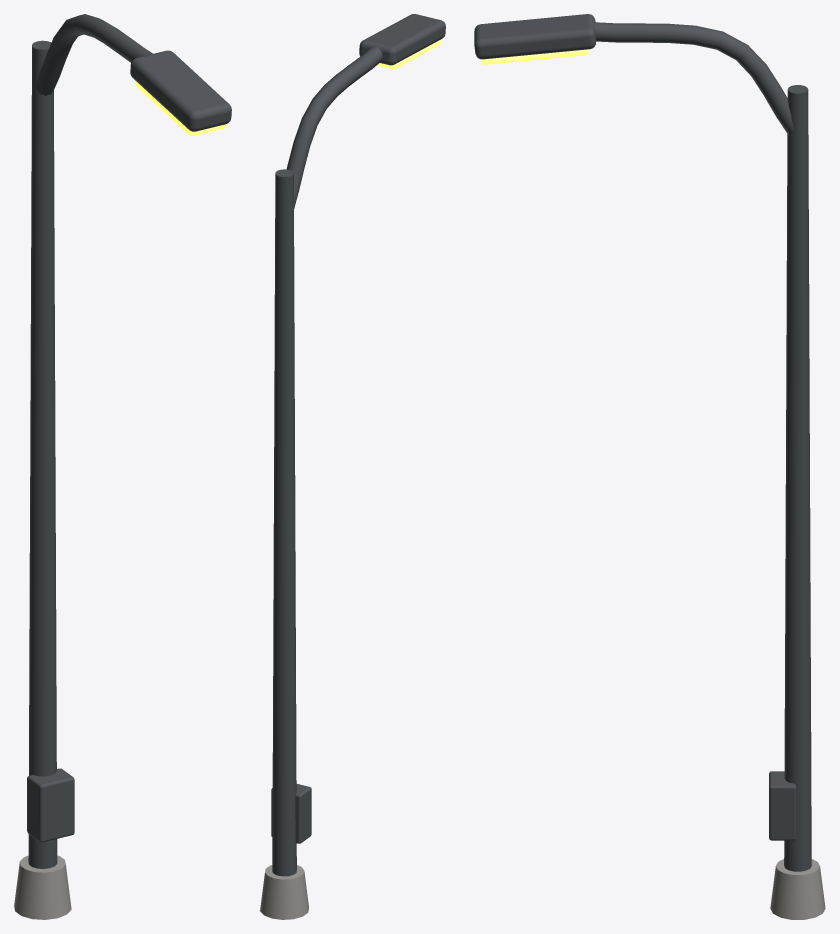
Rendered from battle-royale-town-and-airfield-street-lamp-d6bcc658__28261.glb.
3 renders of one model, left to right at view 1: azimuth 30°, elevation 25°; view 2: azimuth 150°, elevation 25°; view 3: azimuth 270°, elevation 25°, orthographic. The views are drawn at different scales.
Visible parts, largest first — view 1: street-lamp; view 2: street-lamp; view 3: street-lamp.
Boxes of the visible parts, x1=… form: street-lamp: x1=14, y1=14, x2=231, y2=919; street-lamp: x1=260, y1=14, x2=445, y2=919; street-lamp: x1=474, y1=14, x2=825, y2=919.
Size of the model in its own units: 0.39 by 7.08 by 2.54.
3 materials, 1 textured.
